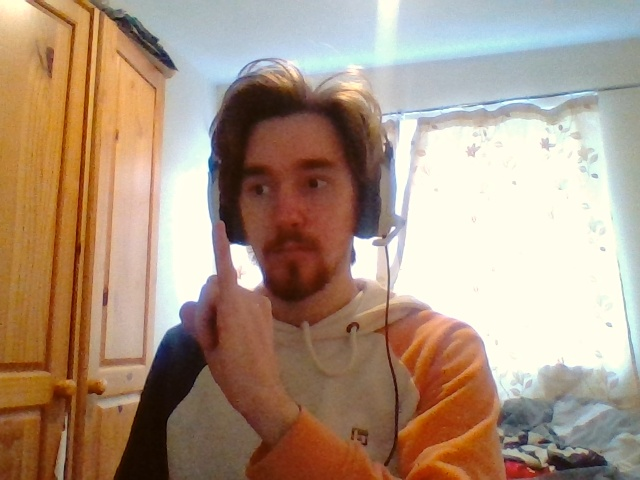bad: (180, 221, 273, 405)
